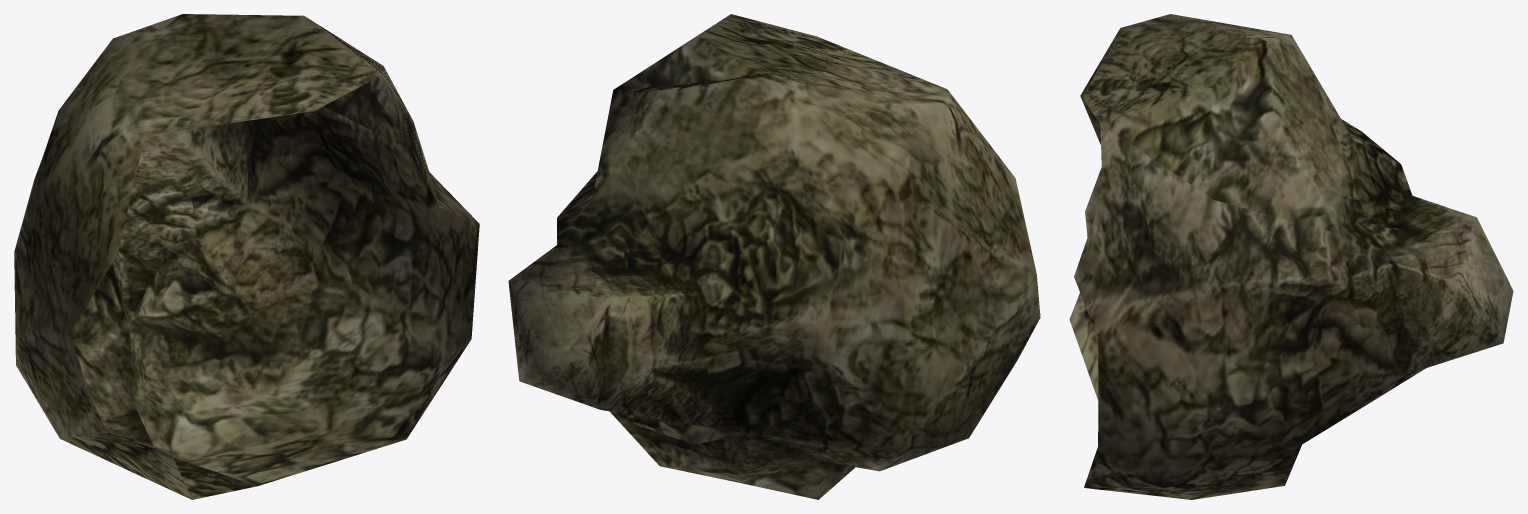
Rendered from MEP_Rock_01_a.fbx.
The picture shows the model from 3 angles, left to right: view 1: azimuth 30°, elevation 25°; view 2: azimuth 150°, elevation 25°; view 3: azimuth 270°, elevation 25°; orthographic projection.
Visible parts, largest first — view 1: MEP_Rock_01_a; view 2: MEP_Rock_01_a; view 3: MEP_Rock_01_a.
Part boxes in pixels (x1=…): MEP_Rock_01_a: x1=14, y1=14, x2=479, y2=499; MEP_Rock_01_a: x1=508, y1=14, x2=1040, y2=499; MEP_Rock_01_a: x1=1069, y1=14, x2=1513, y2=499.
Size of the model in its own units: 18.47 by 18.31 by 17.46.
